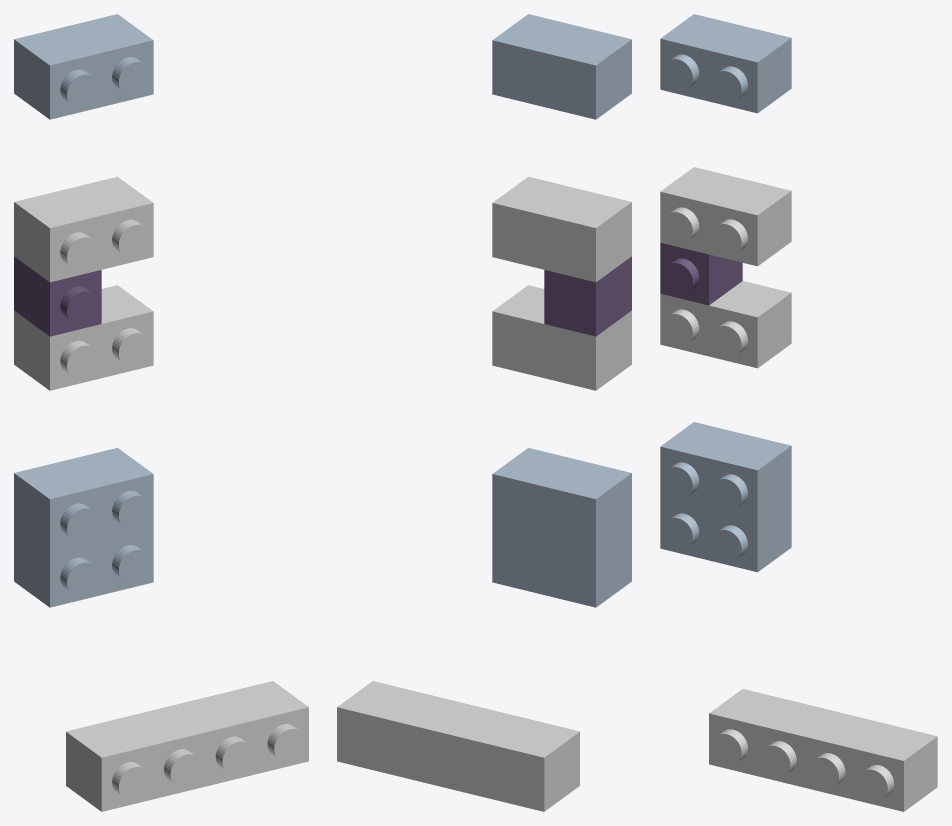
The model's file is current.glb.
3 views of the same model, side by side, from view 1: azimuth 30°, elevation 25°; view 2: azimuth 150°, elevation 25°; view 3: azimuth 330°, elevation 25° (orthographic). The views are drawn at different scales.
Visible parts, largest first — view 1: world; view 2: world; view 3: world.
Boxes of the visible parts, x1,y1,x2,y2 form: world: [14, 14, 308, 811]; world: [337, 14, 631, 811]; world: [660, 14, 937, 811].
Size of the model in its own units: 40 by 112 by 11.4.
